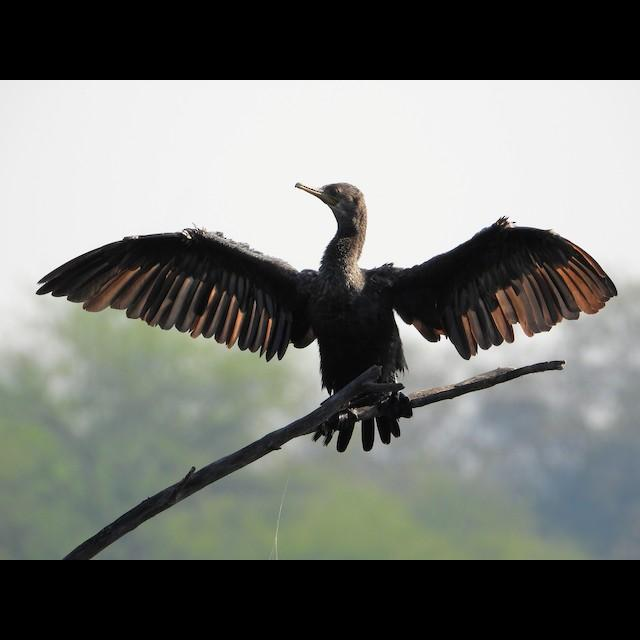cormorant: (33, 178, 617, 450)
